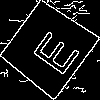E: (23, 23, 81, 78)
